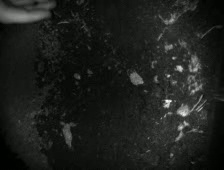corn: (71, 71, 83, 81)
